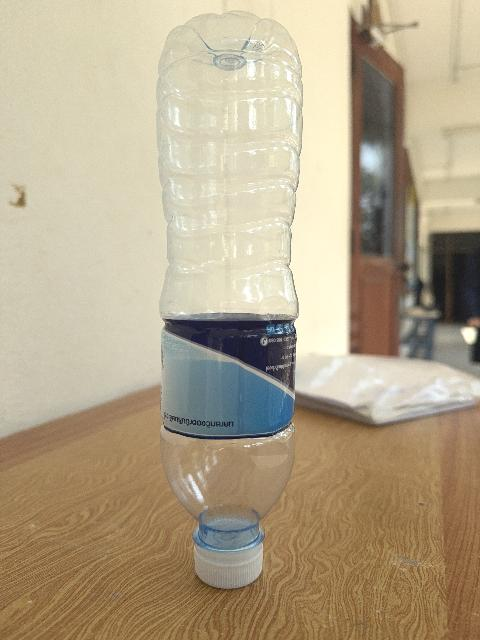bottle: (157, 12, 301, 587)
